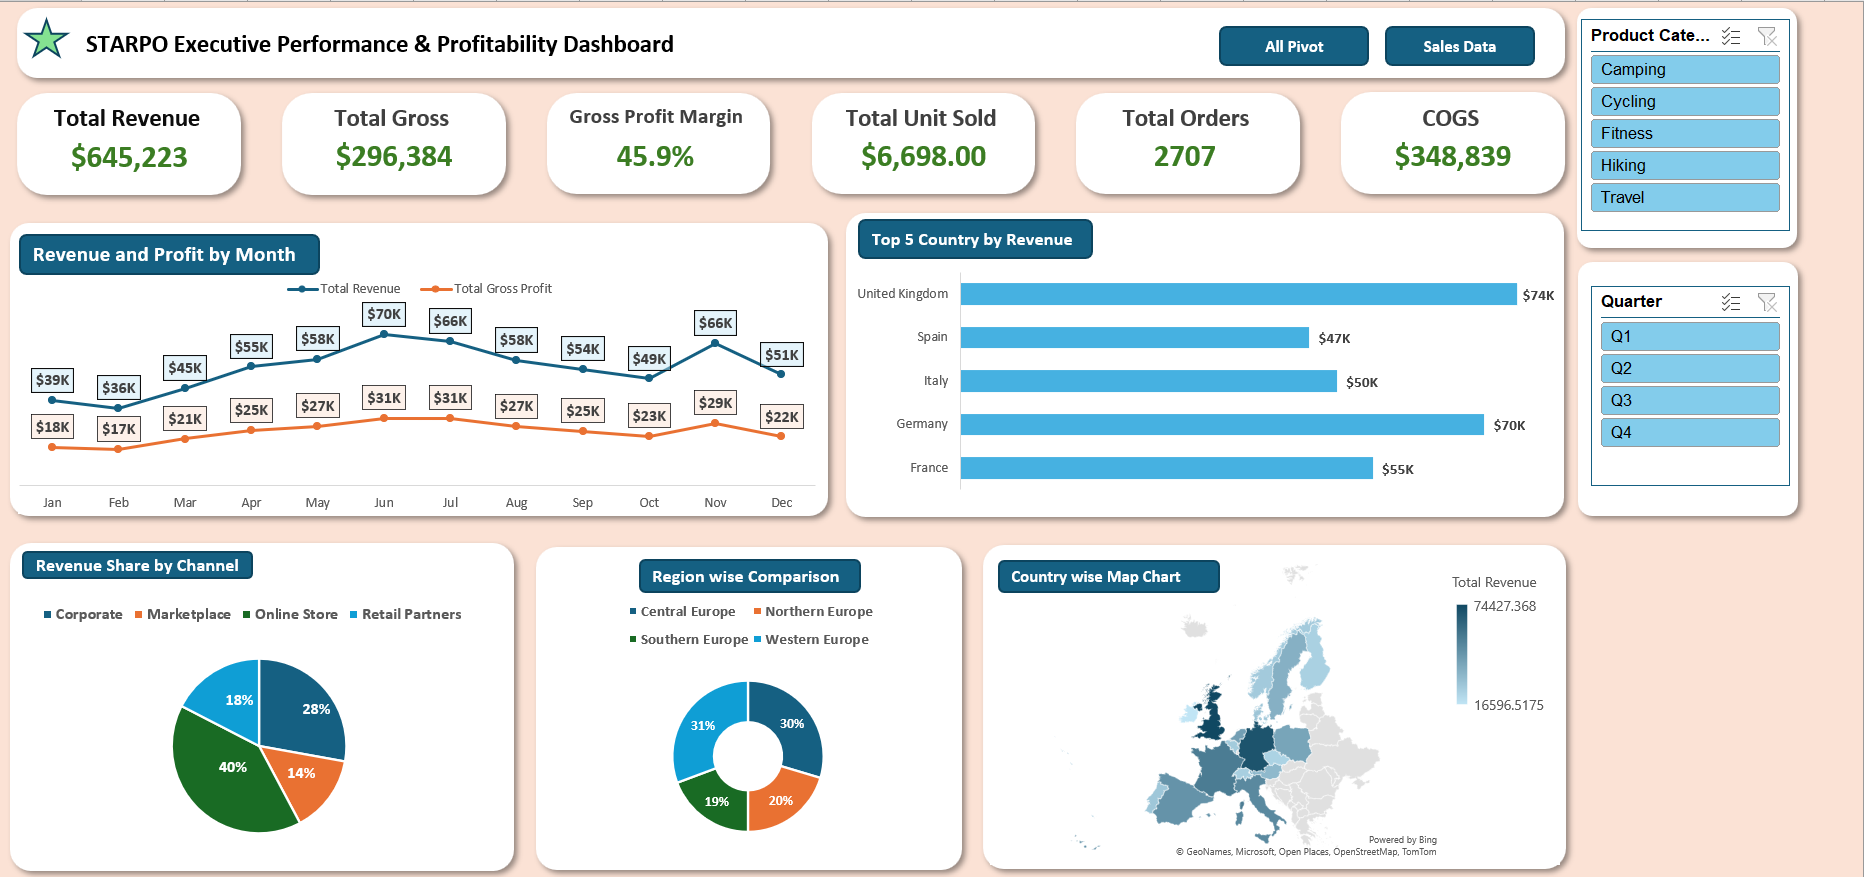

The page's visual inventory and layout, read from the dashboard file:
{"tool":"powerbi","page":{"name":"Page 1","canvas":[1920,1080],"ordinal":0},"visuals":[{"type":"cardVisual","fields":{"Data":["All_Measures.Total Revenue","All_Measures.Total_Gross_Profit","All_Measures.Gross Margin","All_Measures.Total_Quantity","All_Measures.Total Order"]},"box":[20,115,1875,105],"z":0},{"type":"pieChart","title":"Sales Channel Revenue Comparison","fields":{"Category":["Sales_Data.Sales Channel"],"Y":["All_Measures.Total Revenue"]},"box":[20,656.7,610.7,403.3],"z":1000},{"type":"slicer","fields":{"Values":["Sales_Data.Country"]},"box":[20,16.7,353.3,86.7],"z":2000},{"type":"textbox","box":[745,16.7,428,60],"z":2000},{"type":"slicer","fields":{"Values":["Date Table.Month_Name"]},"box":[393.3,16.7,320,86.7],"z":3000},{"type":"donutChart","title":"Product Category by Revenue","fields":{"Category":["Sales_Data.Product Category"],"Y":["All_Measures.Total Gross Profit"]},"box":[651.9,656.7,610.7,403.3],"z":3000},{"type":"slicer","fields":{"Values":["Date Table.Quarter"]},"box":[1213.3,16.7,328.3,86.7],"z":4000},{"type":"slicer","fields":{"Values":["Sales_Data.Product Category"]},"box":[1566.7,16.7,328.3,86.7],"z":5000},{"type":"filledMap","title":"Bottom 5 Countries by Revenue","fields":{"Category":["Sales_Data.Country"]},"box":[1286.7,656.7,608.3,403.3],"z":5000},{"type":"lineChart","title":"Month Wise Revenue and Profit","fields":{"Category":["Date Table.Month Name"],"Y":["All_Measures.Total Revenue"],"Y2":["All_Measures.Total Gross Profit"]},"box":[20,231.7,881.7,406.7],"z":6000},{"type":"clusteredBarChart","title":"Top 5 Countries by Revenue","fields":{"Category":["Sales_Data.Country"],"Y":["All_Measures.Total Revenue"]},"box":[915,231.7,480,406.7],"z":7000},{"type":"clusteredBarChart","title":"Bottom 5 Countries by Revenue","fields":{"Category":["Sales_Data.Country"],"Y":["All_Measures.Total Revenue"]},"box":[1415,231.7,480,406.7],"z":8000}]}

Visuals, with their boxes on the page's 1920x1080 design canvas (x1, y1, x2, y2). These are canvas units, not pixel positions in the 1864x877 screenshot, which may show the page scaled, cropped or inside an application window:
cardVisual - All_Measures.Total Revenue x All_Measures.Total_Gross_Profit: left=20, top=115, right=1895, bottom=220
"Sales Channel Revenue Comparison" pieChart: left=20, top=657, right=631, bottom=1060
slicer - Sales_Data.Country: left=20, top=17, right=373, bottom=103
textbox: left=745, top=17, right=1173, bottom=77
slicer - Date Table.Month_Name: left=393, top=17, right=713, bottom=103
"Product Category by Revenue" donutChart: left=652, top=657, right=1263, bottom=1060
slicer - Date Table.Quarter: left=1213, top=17, right=1542, bottom=103
slicer - Sales_Data.Product Category: left=1567, top=17, right=1895, bottom=103
"Bottom 5 Countries by Revenue" filledMap: left=1287, top=657, right=1895, bottom=1060
"Month Wise Revenue and Profit" lineChart: left=20, top=232, right=902, bottom=638
"Top 5 Countries by Revenue" clusteredBarChart: left=915, top=232, right=1395, bottom=638
"Bottom 5 Countries by Revenue" clusteredBarChart: left=1415, top=232, right=1895, bottom=638
